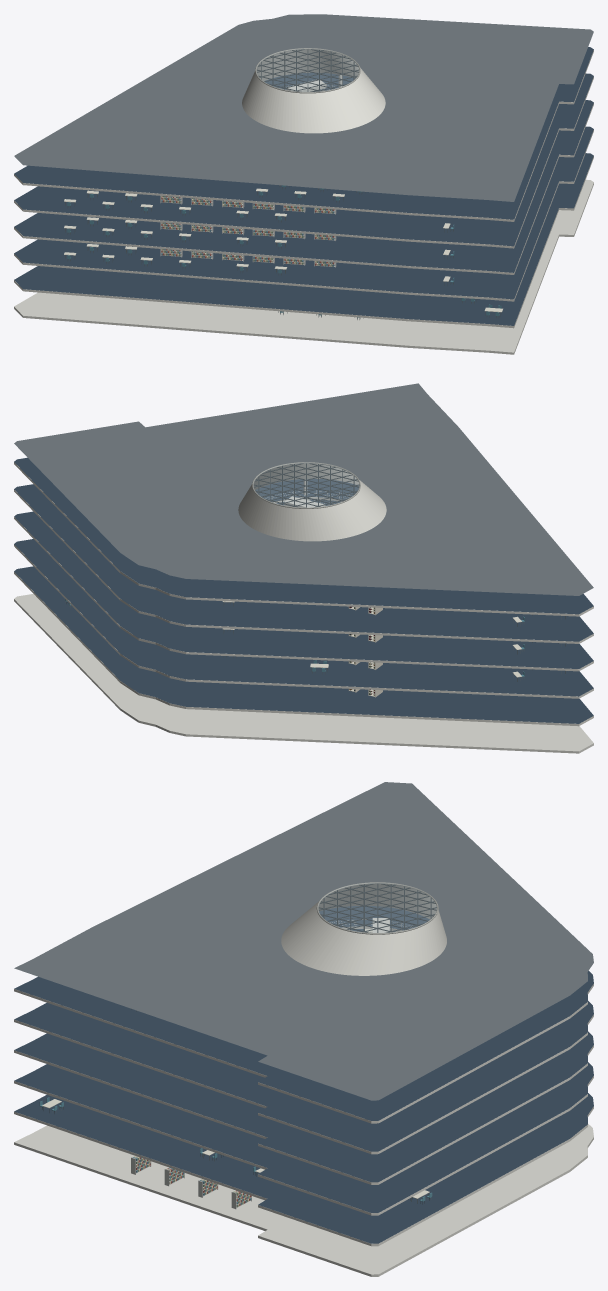
Rendered from lrb-interior-ddc03d541561.glb.
3 views of the same model, one above another, from view 1: azimuth 30°, elevation 25°; view 2: azimuth 150°, elevation 25°; view 3: azimuth 270°, elevation 25° (orthographic). The views are drawn at different scales.
Parts seen in each view (by area): view 1: LRB.001; view 2: LRB.001; view 3: LRB.001.
Boxes of the visible parts, left/top/right/bottom form: LRB.001: left=14, top=14, right=593, bottom=354; LRB.001: left=14, top=383, right=593, bottom=753; LRB.001: left=14, top=782, right=593, bottom=1276.
Bounding box in the file's own units: 89.08 × 27.34 × 68.53.
